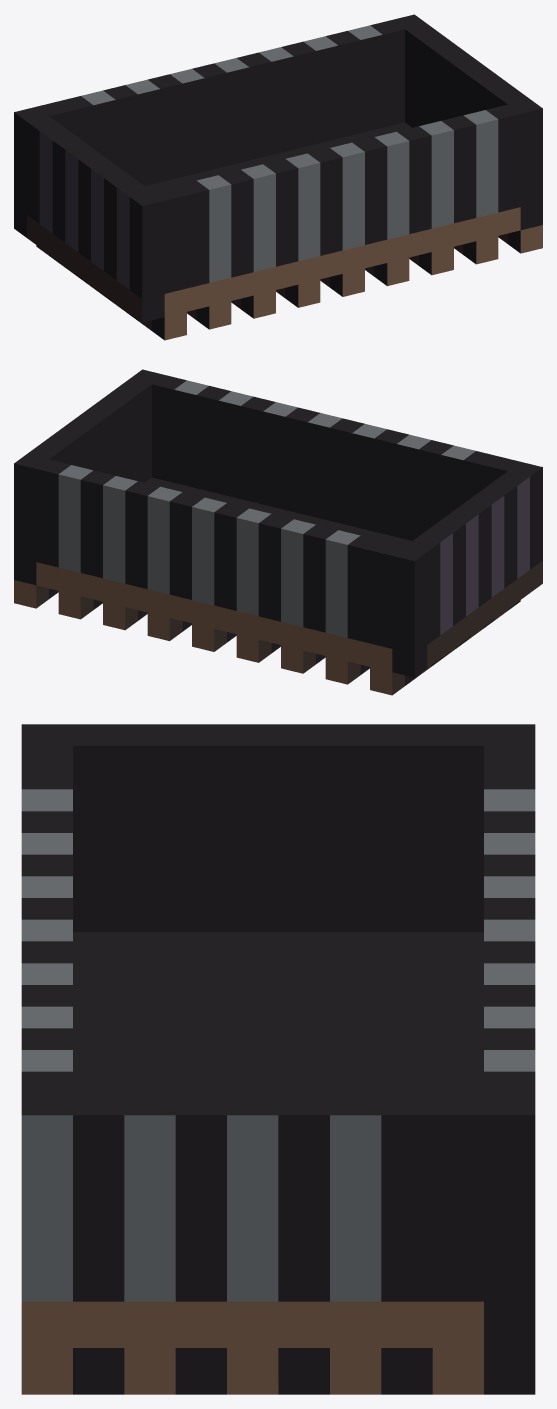
The model's file is gatekeeper_Skirt.glb.
3 renders of one model, top to bottom at view 1: azimuth 30°, elevation 25°; view 2: azimuth 150°, elevation 25°; view 3: azimuth 270°, elevation 25°, orthographic. The views are drawn at different scales.
Parts seen in each view (by area): view 1: gatekeeper_Skirt; view 2: gatekeeper_Skirt; view 3: gatekeeper_Skirt.
Part boxes in pixels (x1=…): gatekeeper_Skirt: x1=14, y1=14, x2=542, y2=340; gatekeeper_Skirt: x1=14, y1=369, x2=542, y2=695; gatekeeper_Skirt: x1=21, y1=724, x2=535, y2=1394.
Bounding box in the file's own units: 2.25 × 0.75 × 1.25.
1 material, 1 textured.
